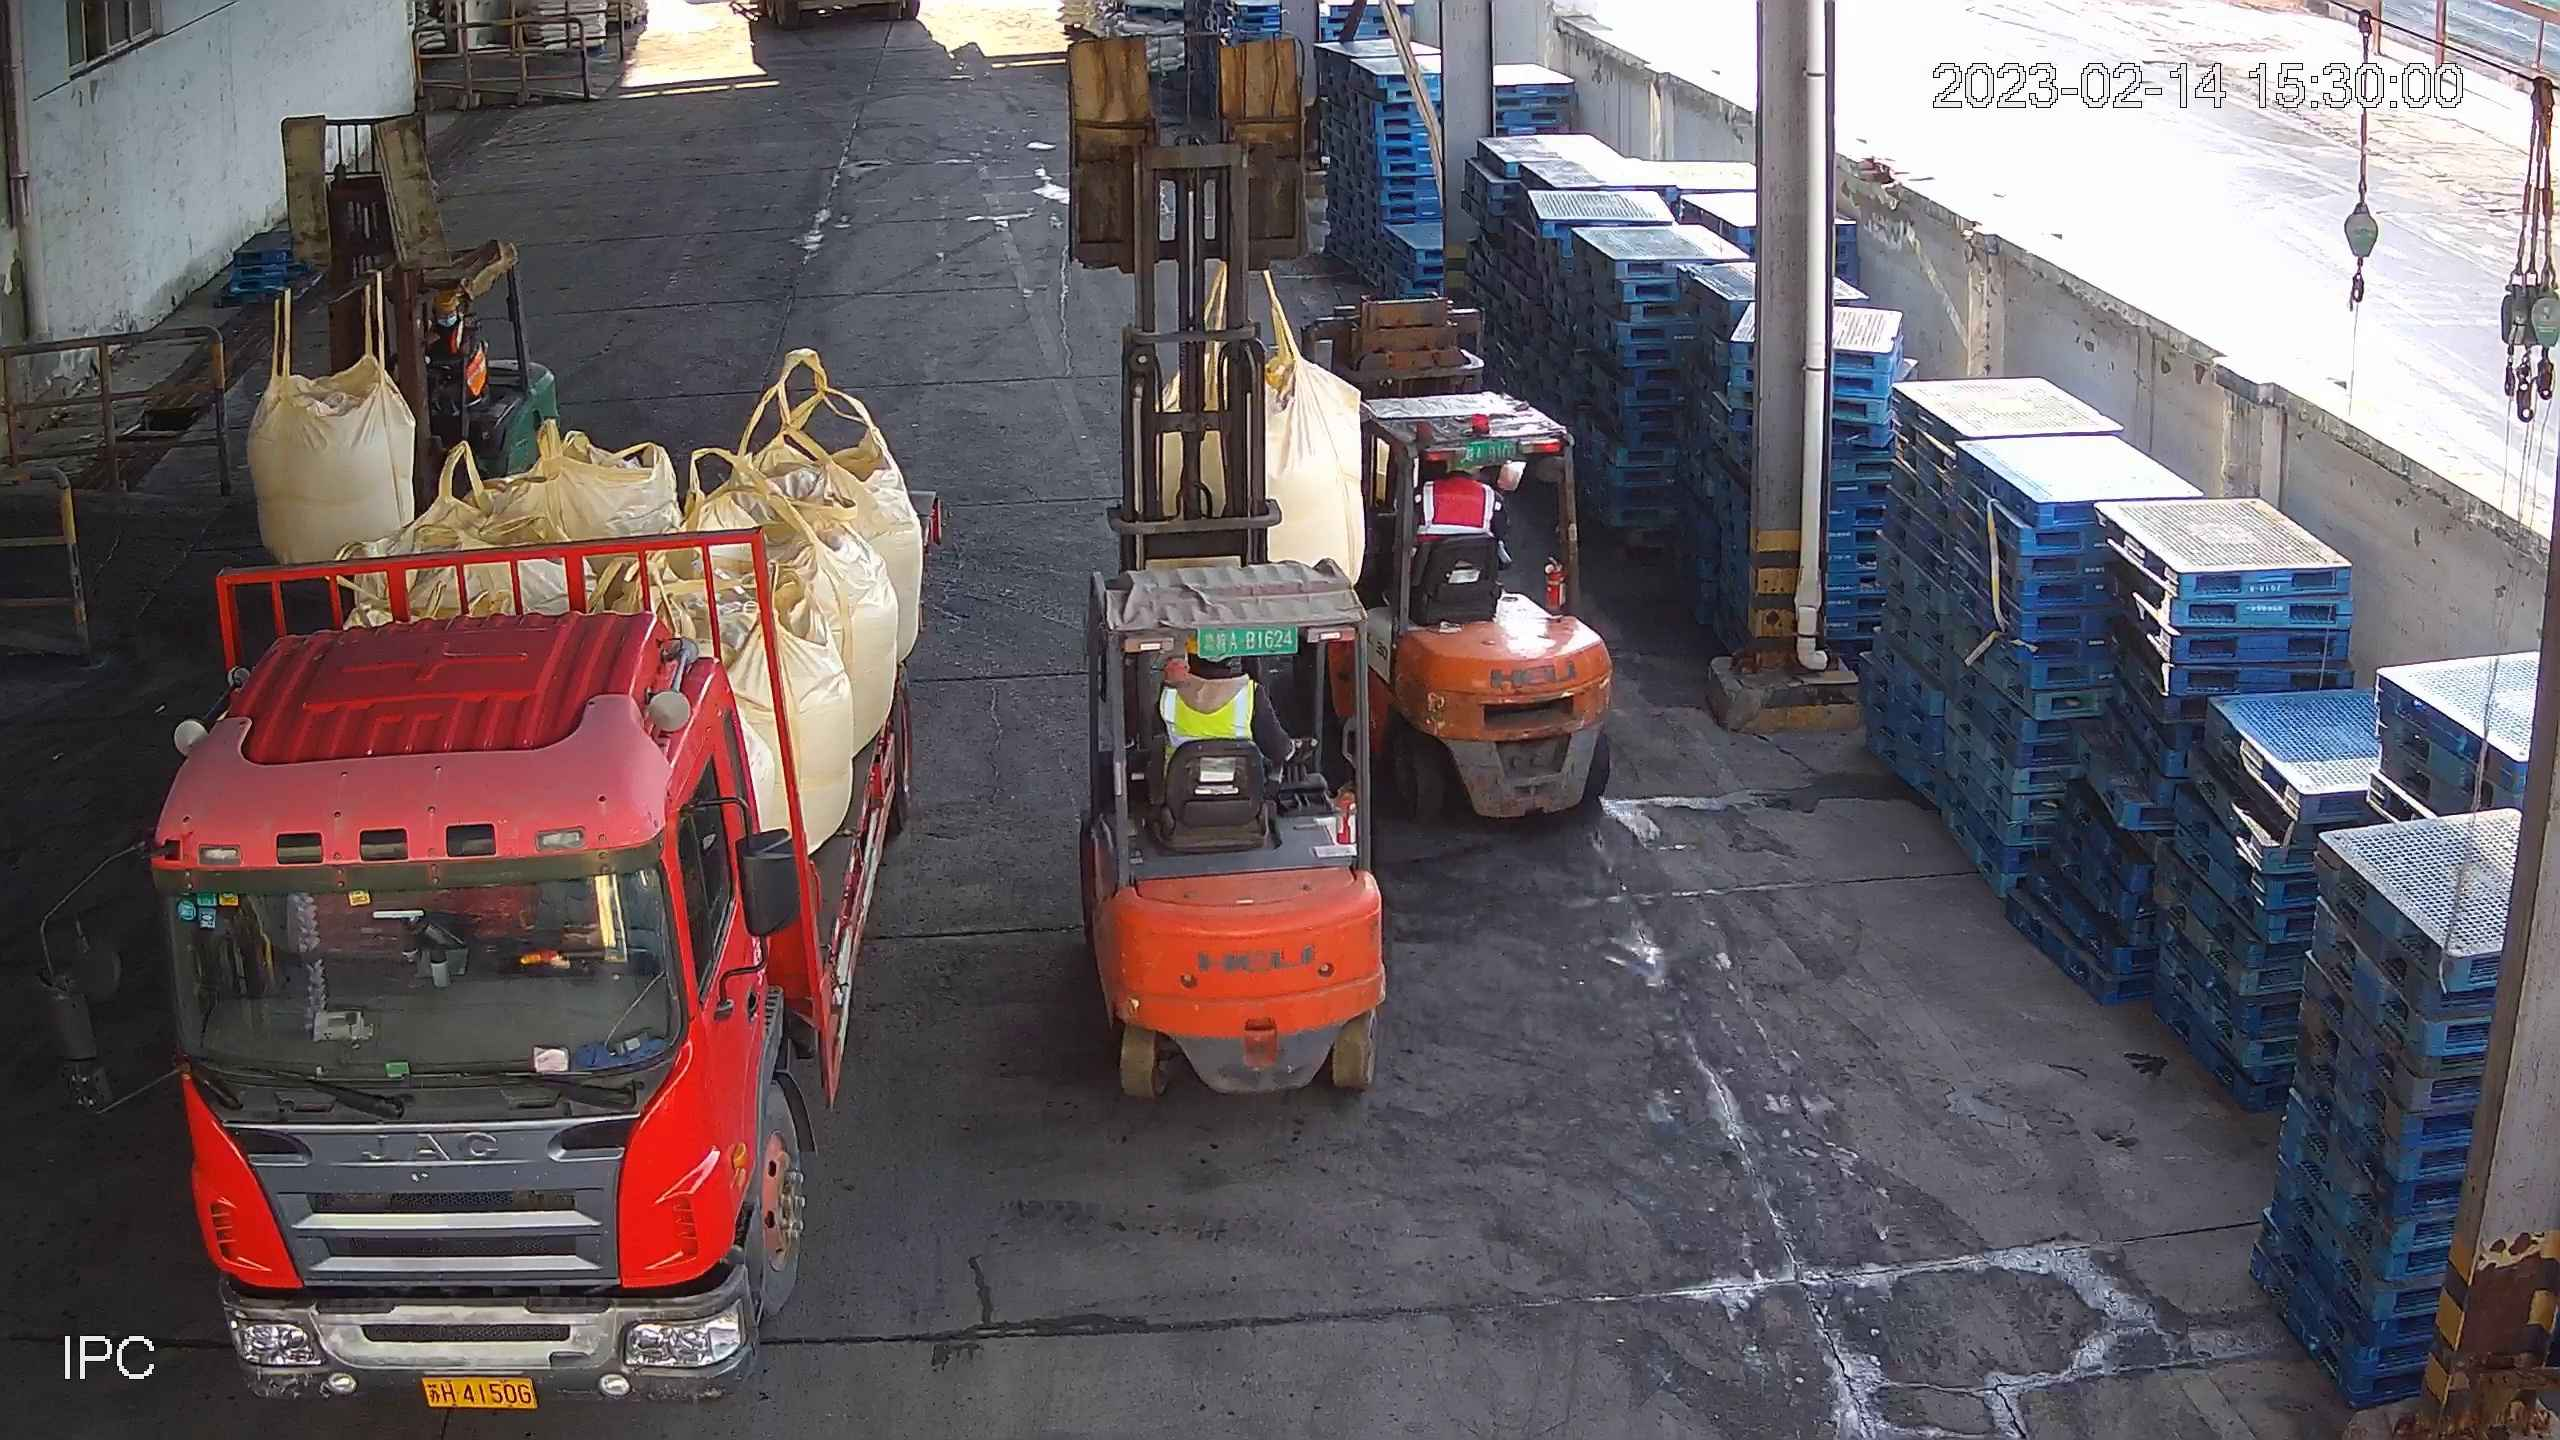helmet: (434, 292, 459, 315)
truck: (21, 489, 948, 1422)
